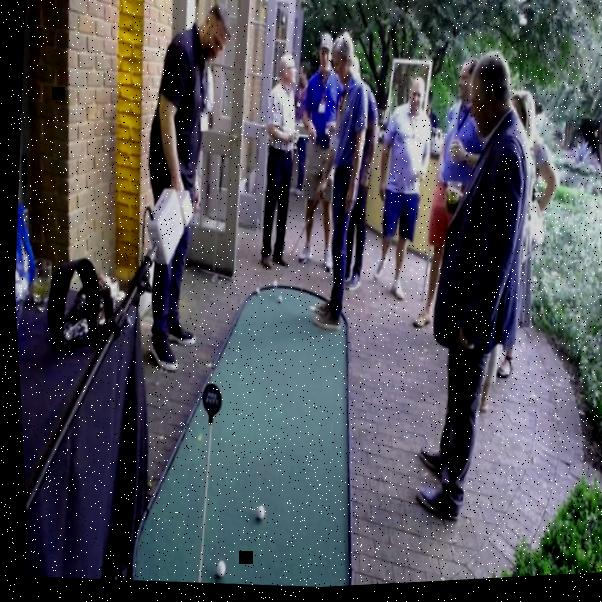GolfBall: (204, 555, 228, 586), (247, 500, 264, 525), (269, 291, 285, 312), (247, 284, 262, 304)
